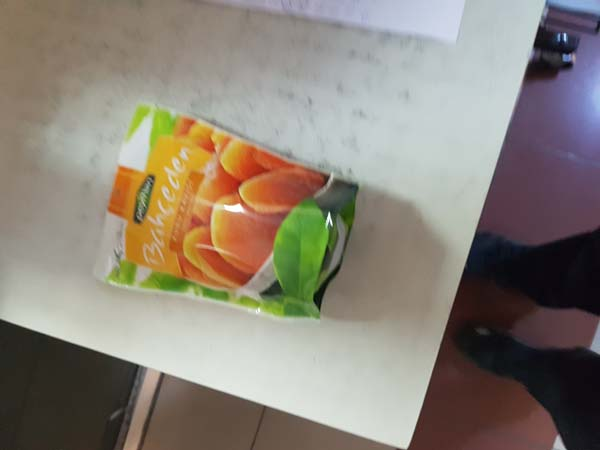bahcedenkurukayisi: (86, 95, 364, 323)
